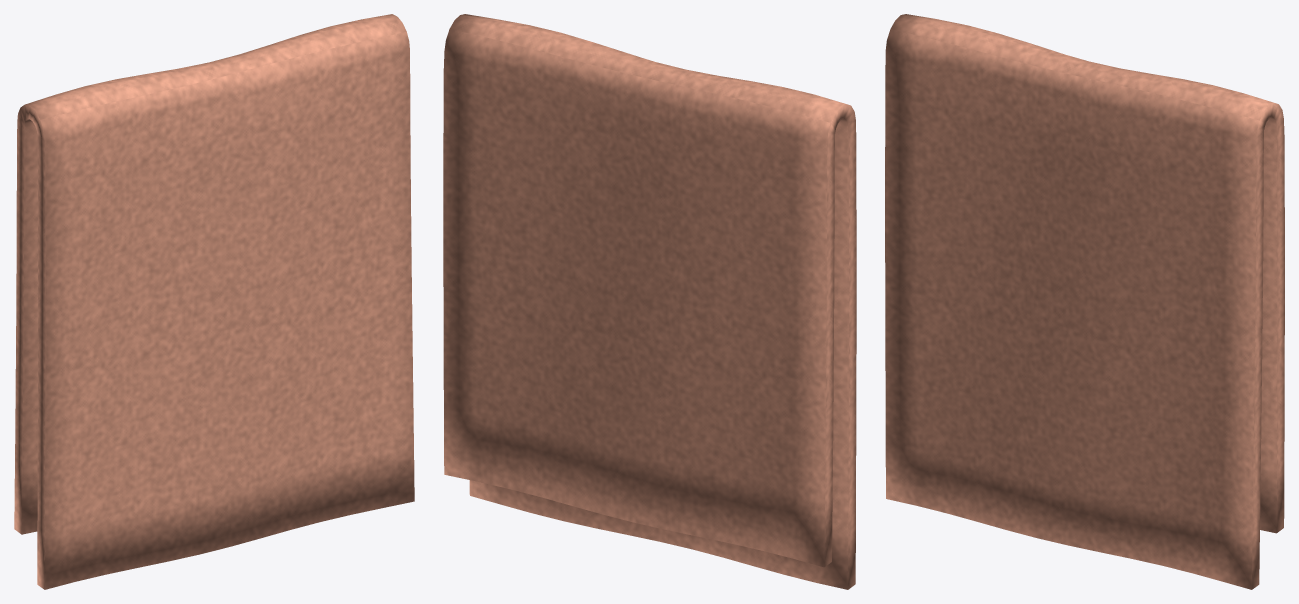
The model's file is towel.glb.
3 views of the same model, side by side, from view 1: azimuth 30°, elevation 25°; view 2: azimuth 150°, elevation 25°; view 3: azimuth 330°, elevation 25° (orthographic). The views are drawn at different scales.
Parts seen in each view (by area): view 1: Towel; view 2: Towel; view 3: Towel.
Part boxes in pixels (x1,y1,x2,y2): Towel: (14,14,414,589); Towel: (443,14,856,589); Towel: (885,14,1284,589).
Size of the model in its own units: 0.4 by 0.494 by 0.065.
Materials: 1 (1 with a texture image).
